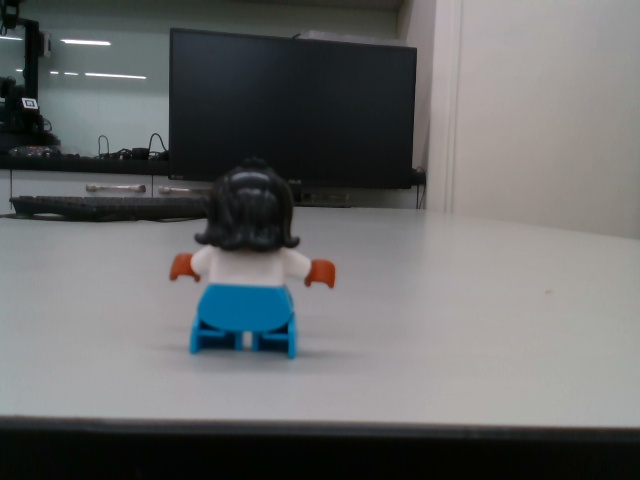people: (164, 161, 341, 360)
